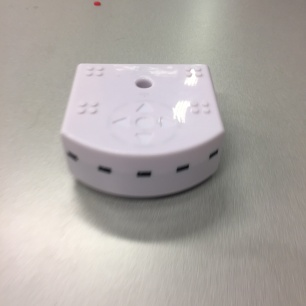thymio: (60, 62, 231, 200)
